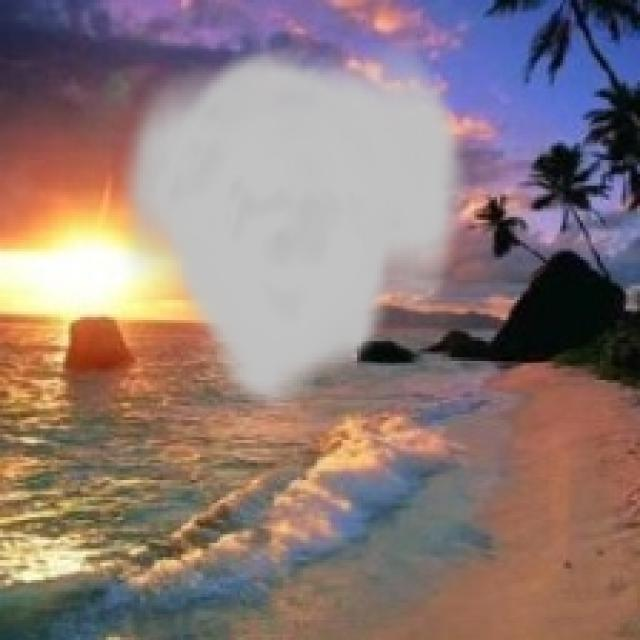Smoke: (111, 42, 468, 414)
